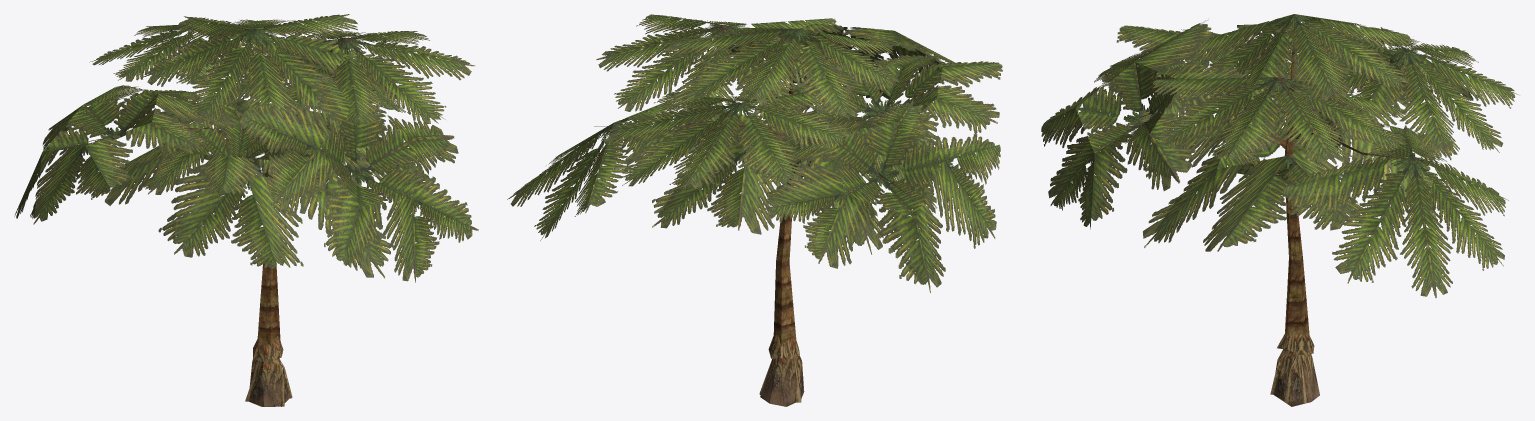
File: C3SNTREEJNG.obj
3 views of the same model, side by side, from view 1: azimuth 30°, elevation 25°; view 2: azimuth 150°, elevation 25°; view 3: azimuth 270°, elevation 25° (orthographic).
Parts seen in each view (by area): view 1: Node 0; view 2: Node 0; view 3: Node 0.
Part boxes in pixels (bbox=[...]): Node 0: bbox=[14, 14, 478, 406]; Node 0: bbox=[507, 14, 1002, 406]; Node 0: bbox=[1041, 14, 1519, 406].
Bounding box in the file's own units: 24.3 × 20.44 × 23.45.
Materials: 1 (1 with a texture image).
